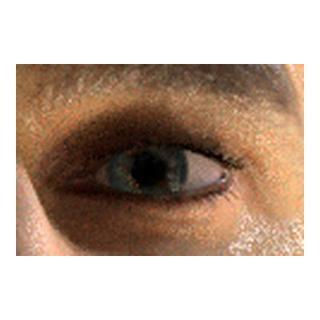pupil: (130, 153, 162, 185)
